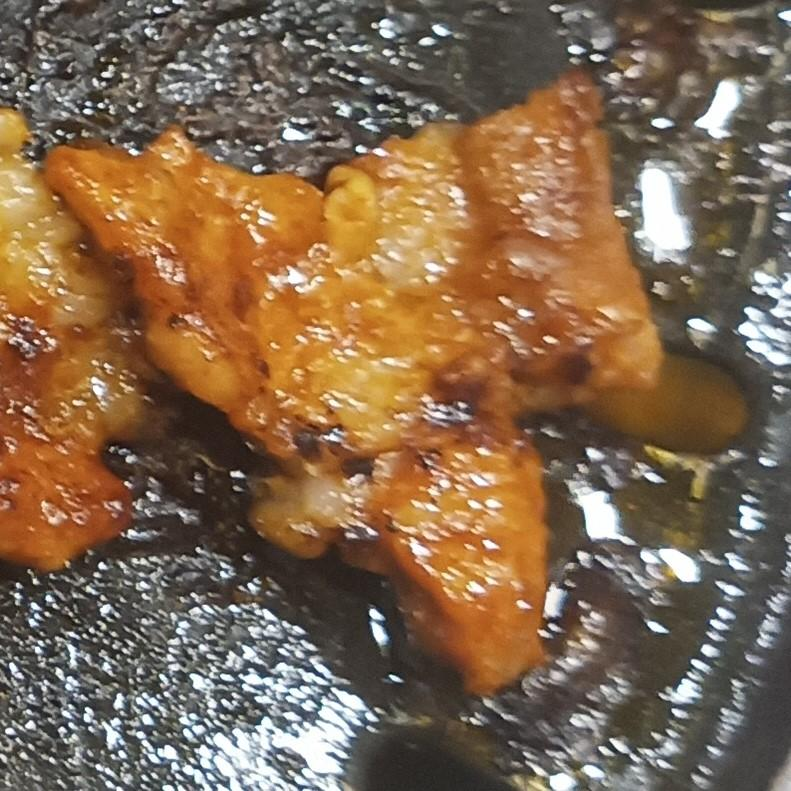Overcooked: (41, 67, 662, 703), (0, 105, 172, 576)
